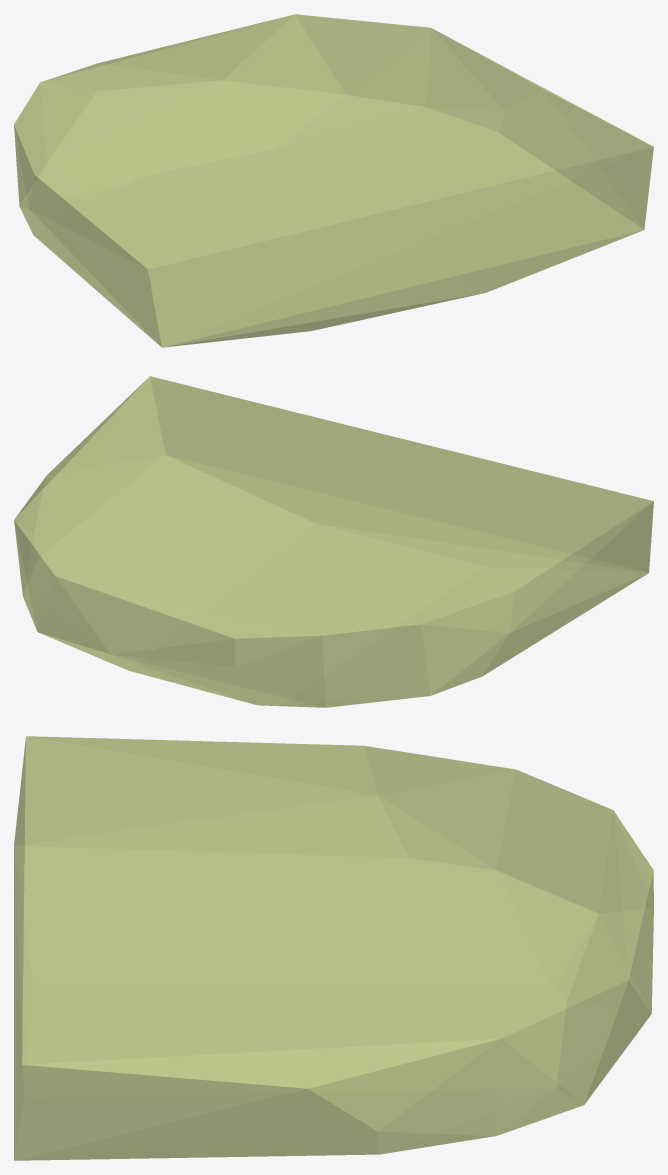
3 renders of one model, top to bottom at view 1: azimuth 30°, elevation 25°; view 2: azimuth 150°, elevation 25°; view 3: azimuth 270°, elevation 25°, orthographic. The views are drawn at different scales.
Parts seen in each view (by area): view 1: Shape_IndexedFaceSet.002_Shape_IndexedFaceSet.17980; view 2: Shape_IndexedFaceSet.002_Shape_IndexedFaceSet.17980; view 3: Shape_IndexedFaceSet.002_Shape_IndexedFaceSet.17980.
Boxes of the visible parts, left/top/right/bottom form: Shape_IndexedFaceSet.002_Shape_IndexedFaceSet.17980: left=14, top=14, right=653, bottom=347; Shape_IndexedFaceSet.002_Shape_IndexedFaceSet.17980: left=14, top=376, right=653, bottom=707; Shape_IndexedFaceSet.002_Shape_IndexedFaceSet.17980: left=14, top=736, right=653, bottom=1160.
Bounding box in the file's own units: 0.4041 × 0.081 × 0.3317.
